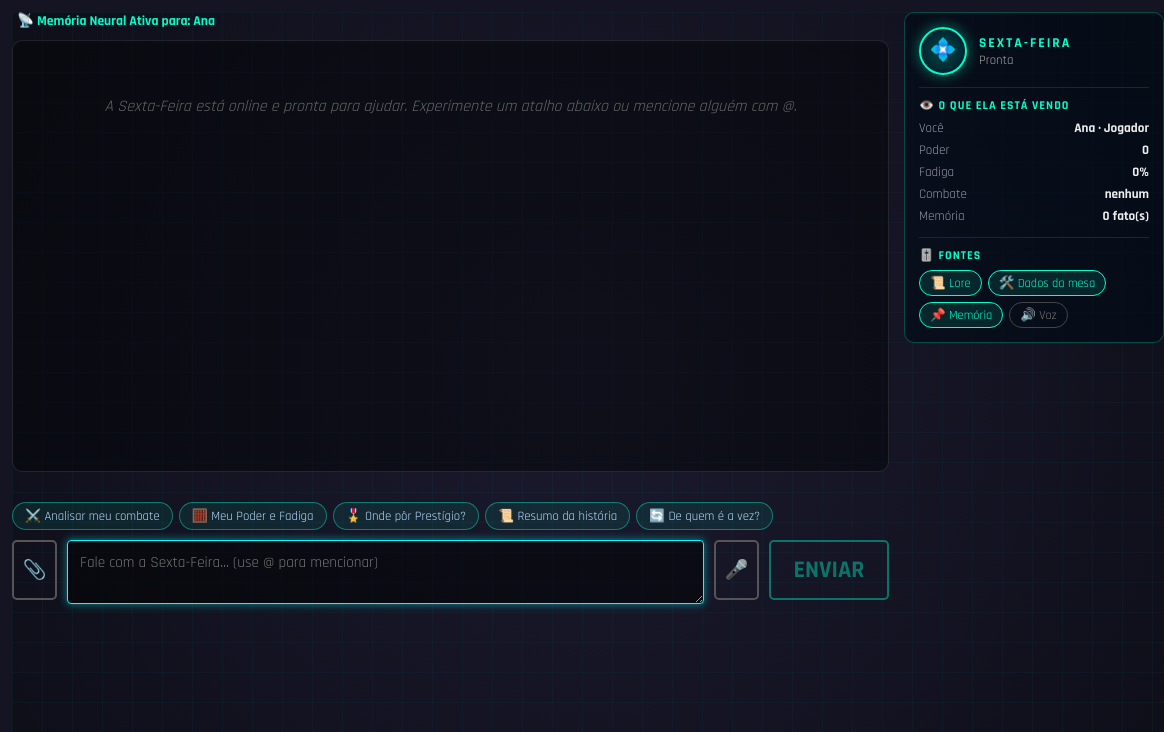
Test: BotaoMicrofone - disponibilidade › desabilitado enquanto carrega resposta
Type "oi" into the text box named "Mensagem para a Sexta-Feira". click: (386, 572)
box: [67,540,704,604]
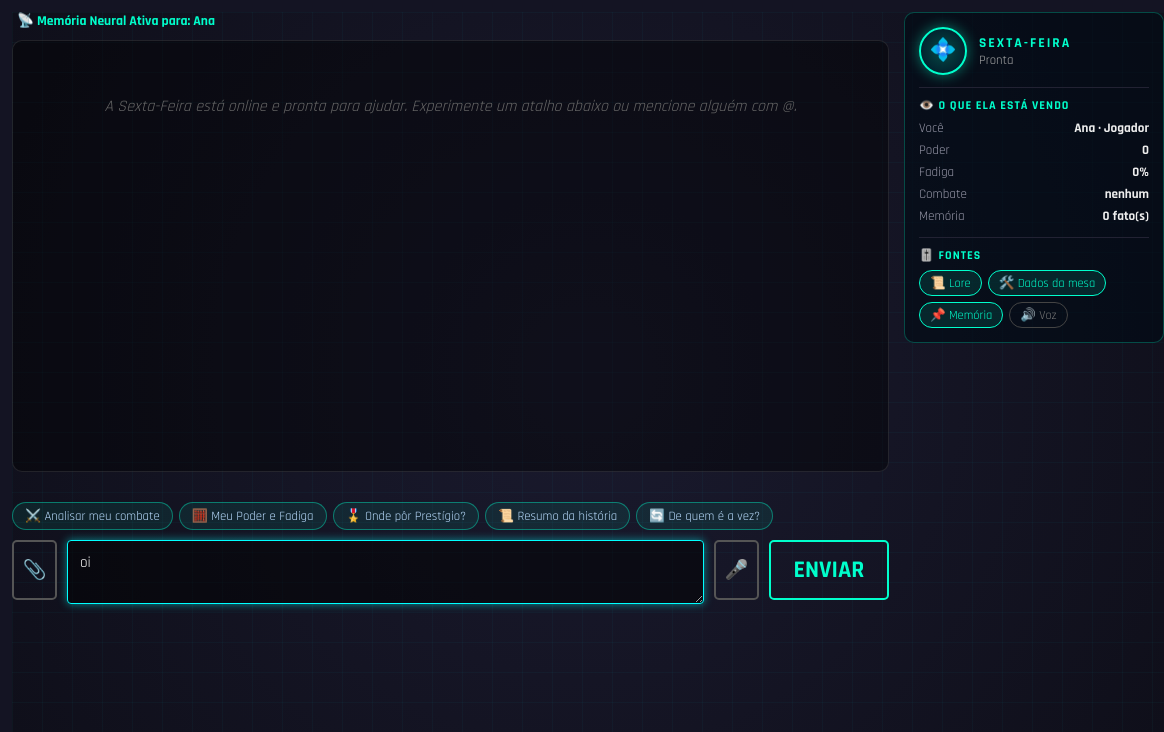
Click the button "ENVIAR". click: (829, 570)
box: [769,540,889,600]
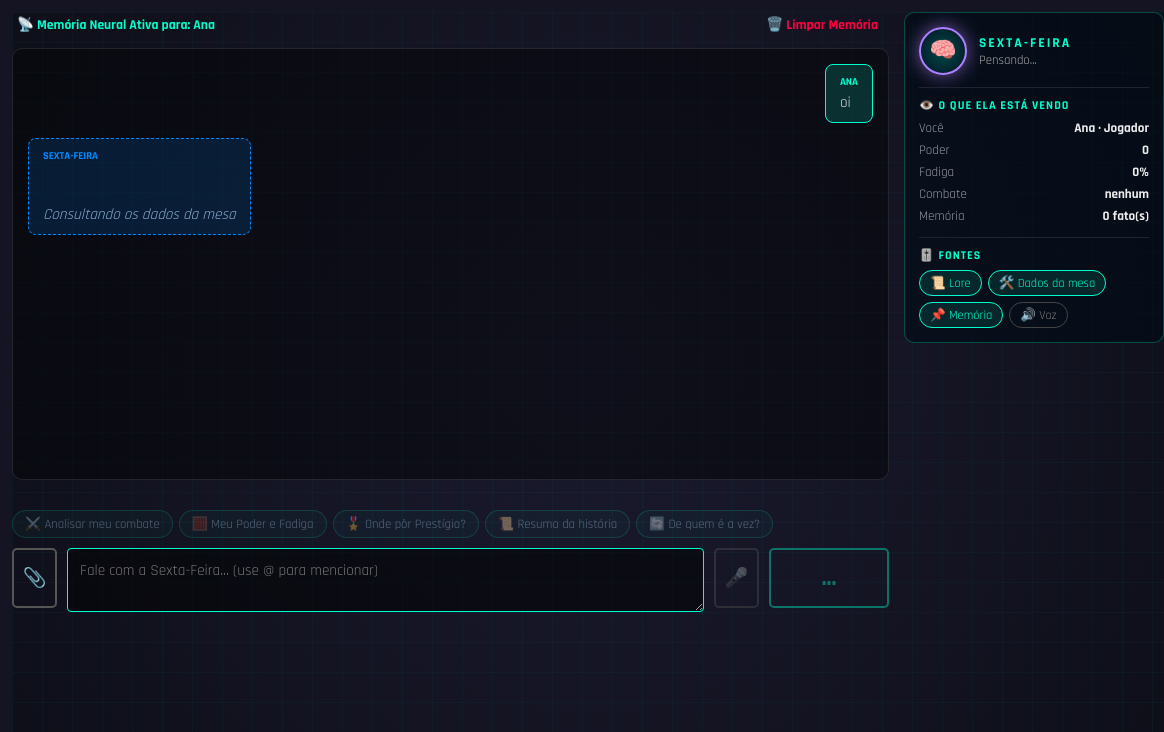
Now the button "🎤" is disabled, box [714,548,759,608]
